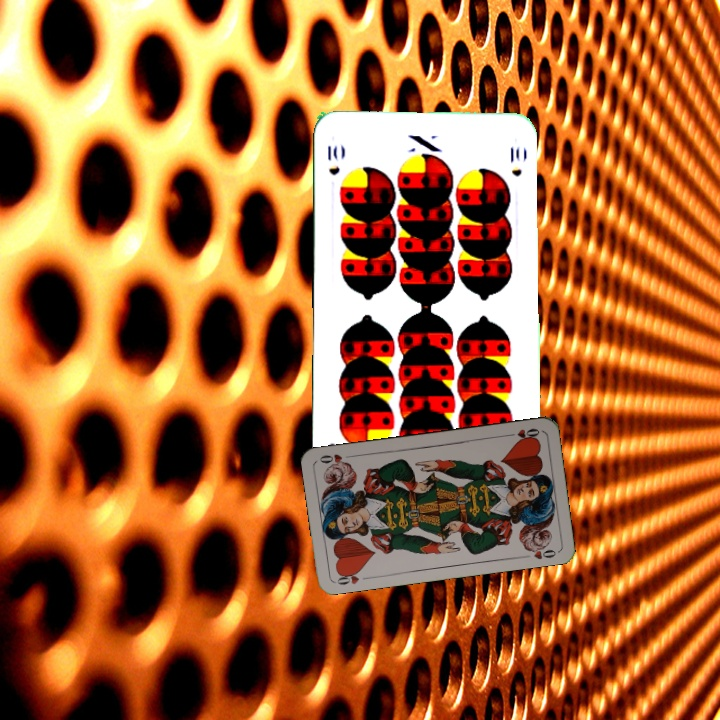HO: (332, 566, 372, 587), (502, 424, 542, 443)
S10: (324, 142, 342, 178)
